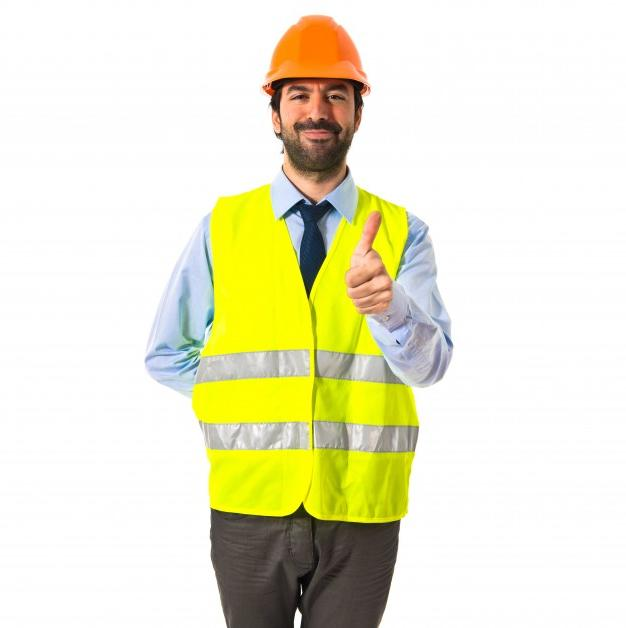thumbsup: (344, 211, 394, 313)
